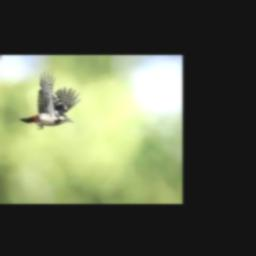Woodpecker: (20, 69, 82, 129)
